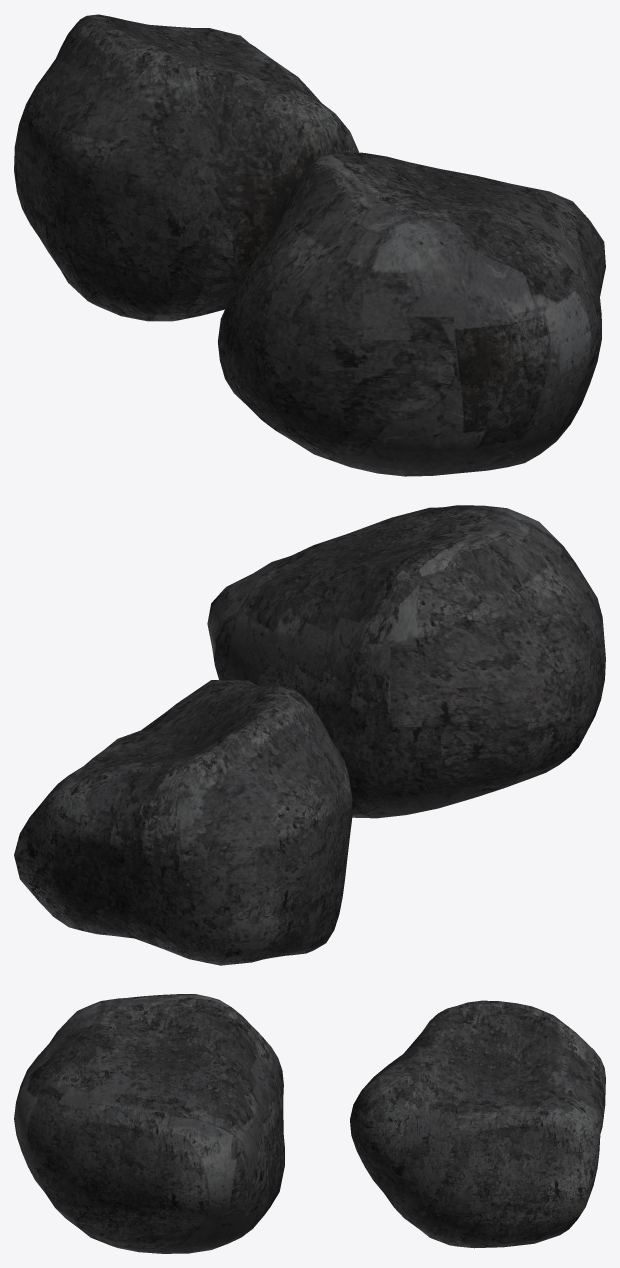
The model's file is METEOROSTEXTURAS.fbx.
3 views of the same model, one above another, from view 1: azimuth 30°, elevation 25°; view 2: azimuth 150°, elevation 25°; view 3: azimuth 270°, elevation 25° (orthographic). The views are drawn at different scales.
Visible parts, largest first — view 1: pSphere1, pSphere2; view 2: pSphere1, pSphere2; view 3: pSphere1, pSphere2.
Part boxes in pixels (x1,y1,x2,y2): pSphere1: (218, 152, 605, 476); pSphere2: (14, 14, 358, 321); pSphere1: (207, 505, 605, 818); pSphere2: (14, 680, 352, 965); pSphere1: (14, 994, 284, 1253); pSphere2: (350, 1000, 605, 1248).
Size of the model in its own units: 5.59 by 4.02 by 10.38.
Materials: 1 (1 with a texture image).
